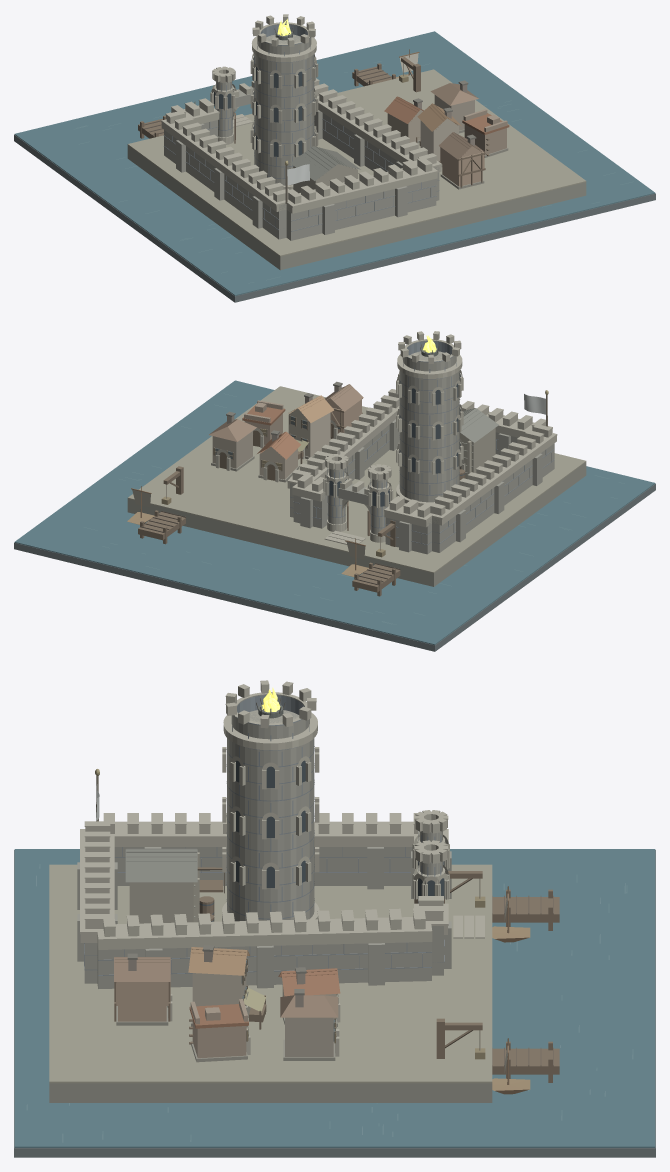
Rendered from harbor-3.glb.
3 renders of one model, top to bottom at view 1: azimuth 30°, elevation 25°; view 2: azimuth 150°, elevation 25°; view 3: azimuth 270°, elevation 25°, orthographic. The views are drawn at different scales.
Parts seen in each view (by area): view 1: بندر فانوس دریایی; view 2: بندر فانوس دریایی; view 3: بندر فانوس دریایی.
Part boxes in pixels (x1,y1,x2,y2): بندر فانوس دریایی: (14,14,655,302); بندر فانوس دریایی: (14,331,655,651); بندر فانوس دریایی: (14,680,655,1157).
Bounding box in the file's own units: 11 × 4.64 × 10.
